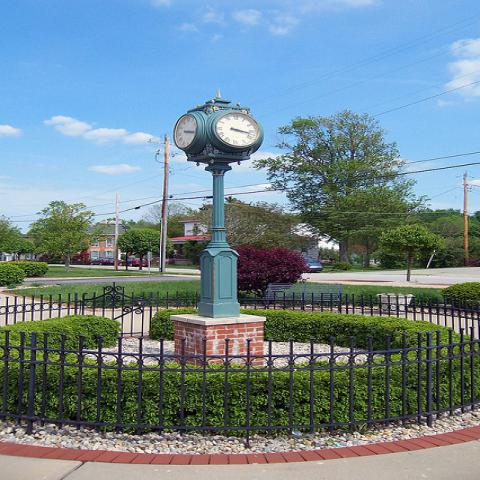car: (300, 254, 323, 270), (118, 258, 151, 267), (89, 257, 116, 265)
